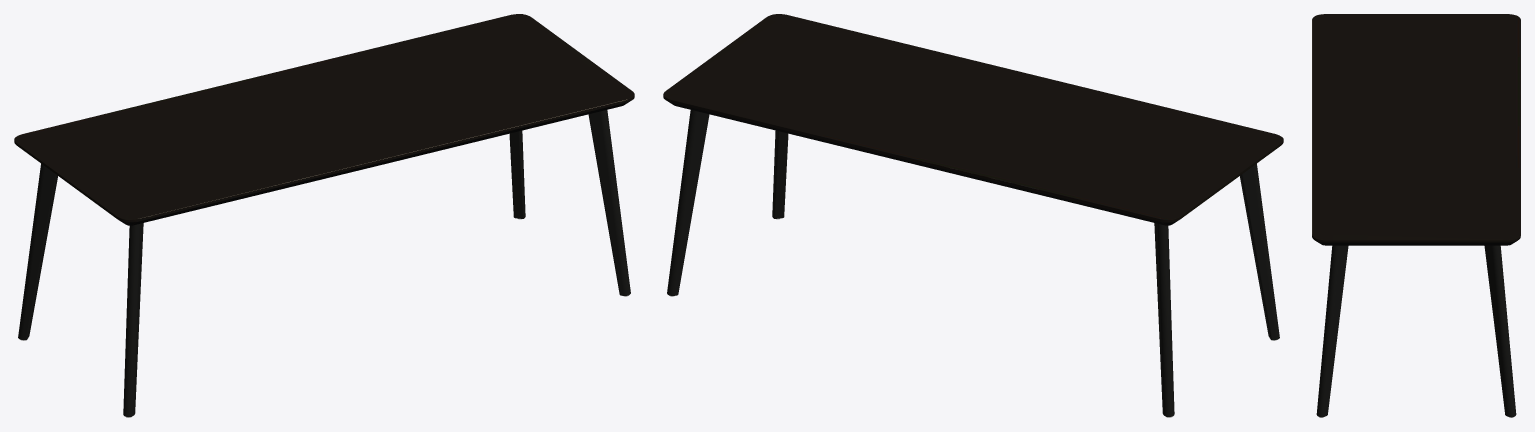
File: LISABO_10563773.glb
The picture shows the model from 3 angles, left to right: view 1: azimuth 30°, elevation 25°; view 2: azimuth 150°, elevation 25°; view 3: azimuth 270°, elevation 25°; orthographic projection. The views are drawn at different scales.
Visible parts, largest first — view 1: 20563782-LISABO001; view 2: 20563782-LISABO001; view 3: 20563782-LISABO001.
Boxes of the visible parts, x1=… form: 20563782-LISABO001: x1=14, y1=14, x2=634, y2=417; 20563782-LISABO001: x1=663, y1=14, x2=1283, y2=417; 20563782-LISABO001: x1=1312, y1=14, x2=1520, y2=417.
Bounding box in the file's own units: 2 × 0.7445 × 0.7803.
1 material, 1 textured.
